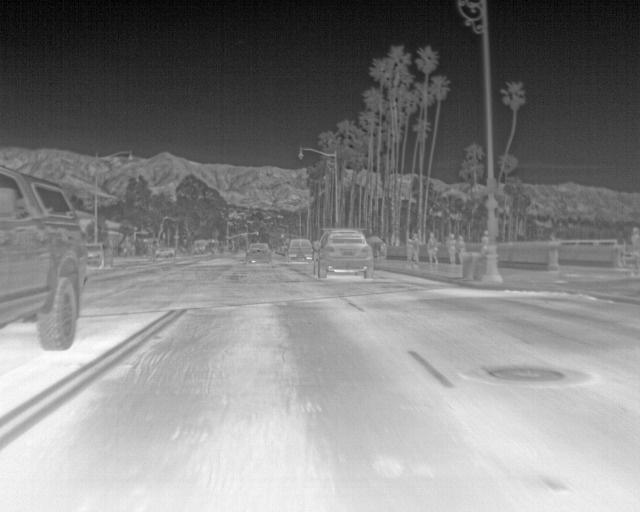bicycle: (0, 162, 91, 351), (316, 227, 376, 278), (86, 238, 112, 271), (286, 236, 314, 263), (244, 242, 273, 264), (152, 243, 179, 260), (191, 239, 214, 257)
empty: (426, 230, 441, 264), (411, 230, 423, 266), (446, 232, 459, 265), (452, 232, 467, 259), (403, 236, 415, 268)
